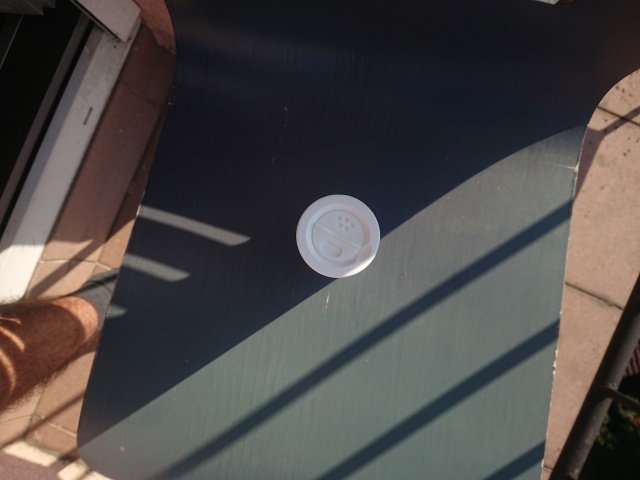Solana Pag Fine Sea Salt 250g: (292, 191, 383, 281)
